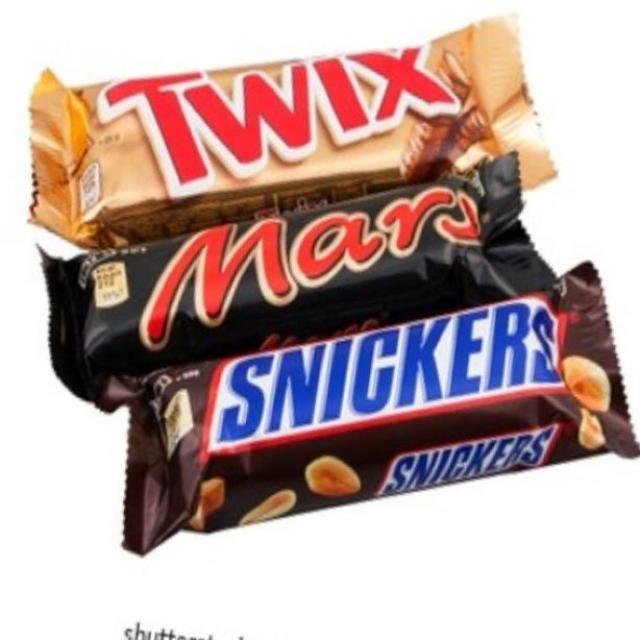mars_chocolate: (116, 165, 509, 341)
snickers_chocolate: (172, 296, 580, 494)
